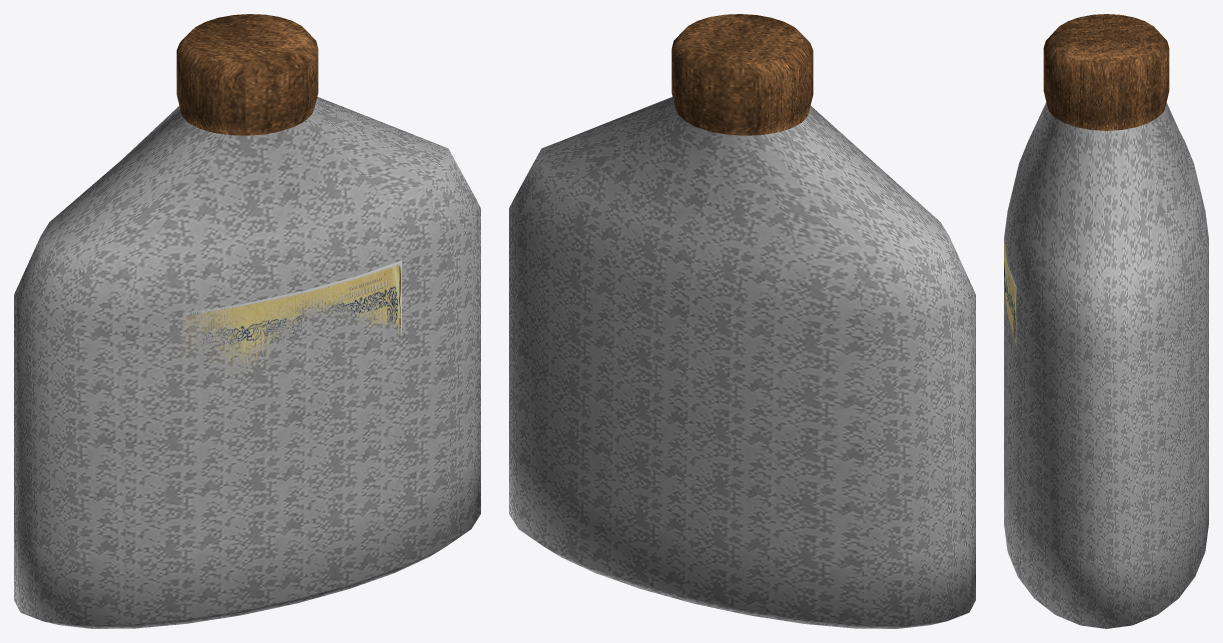
File: alchogol1.fbx
The picture shows the model from 3 angles, left to right: view 1: azimuth 30°, elevation 25°; view 2: azimuth 150°, elevation 25°; view 3: azimuth 270°, elevation 25°; orthographic projection. The views are drawn at different scales.
Visible parts, largest first — view 1: alchogol1, vodka1; view 2: alchogol1; view 3: alchogol1, vodka1.
Part boxes in pixels (x1,y1,x2,y2): alchogol1: (14,14,480,628); vodka1: (181,260,401,375); alchogol1: (509,14,975,628); alchogol1: (1004,14,1208,628); vodka1: (1004,238,1016,346).
Bounding box in the file's own units: 480 × 534 × 200.
3 materials, 3 textured.
